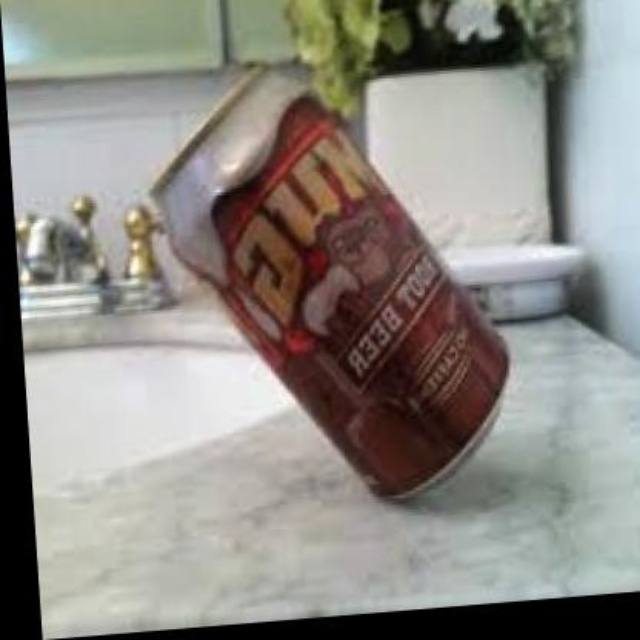trash: (152, 68, 506, 494)
